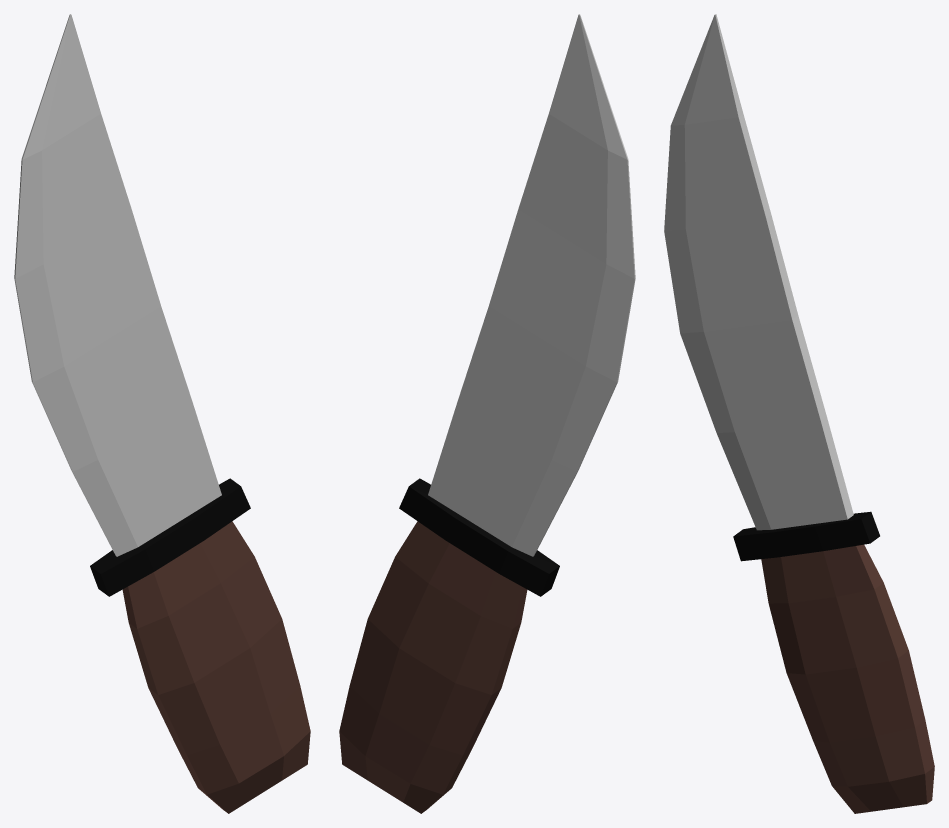
The model's file is low poly knife.fbx.
3 renders of one model, left to right at view 1: azimuth 30°, elevation 25°; view 2: azimuth 150°, elevation 25°; view 3: azimuth 330°, elevation 25°, orthographic. The views are drawn at different scales.
Parts seen in each view (by area): view 1: Knife; view 2: Knife; view 3: Knife.
Part boxes in pixels (x1=…): Knife: x1=14, y1=14, x2=310, y2=813; Knife: x1=339, y1=14, x2=635, y2=813; Knife: x1=664, y1=14, x2=934, y2=813.
Size of the model in its own units: 25.26 by 69.42 by 3.85.
